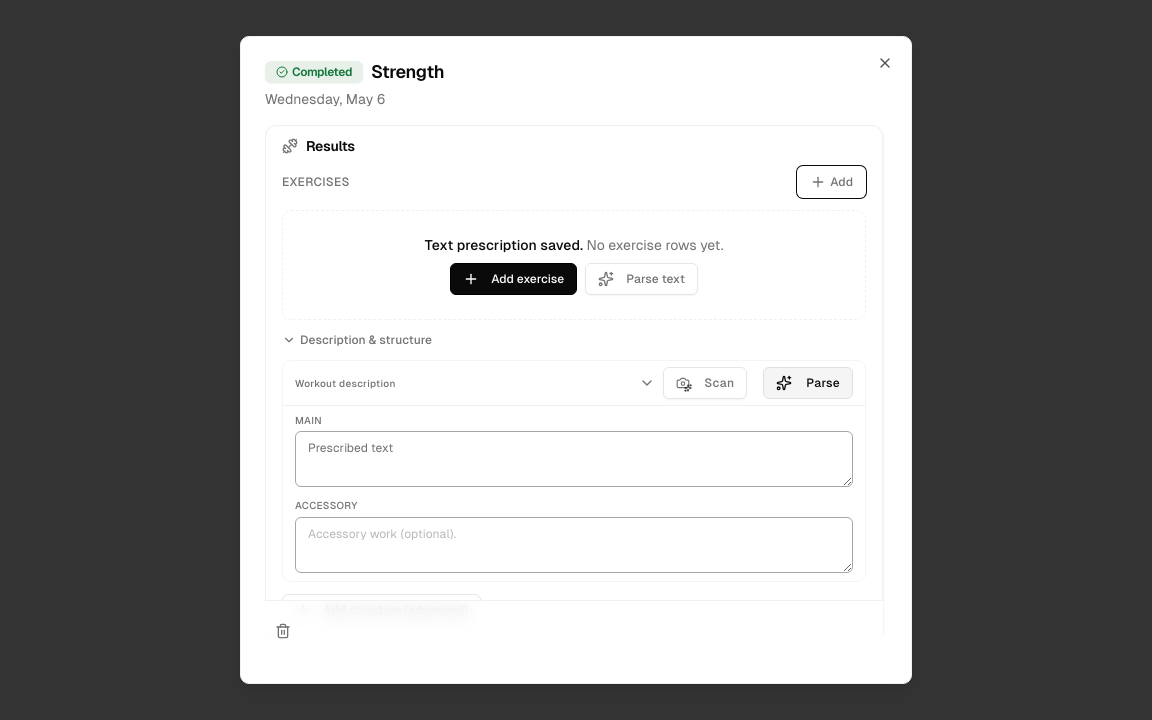
it: ReviewSurface › describes deleting a workout logged without a plan (CL23)
Click the button with test id "review-delete-entry-1" at (283, 631), box [265,613,301,649]
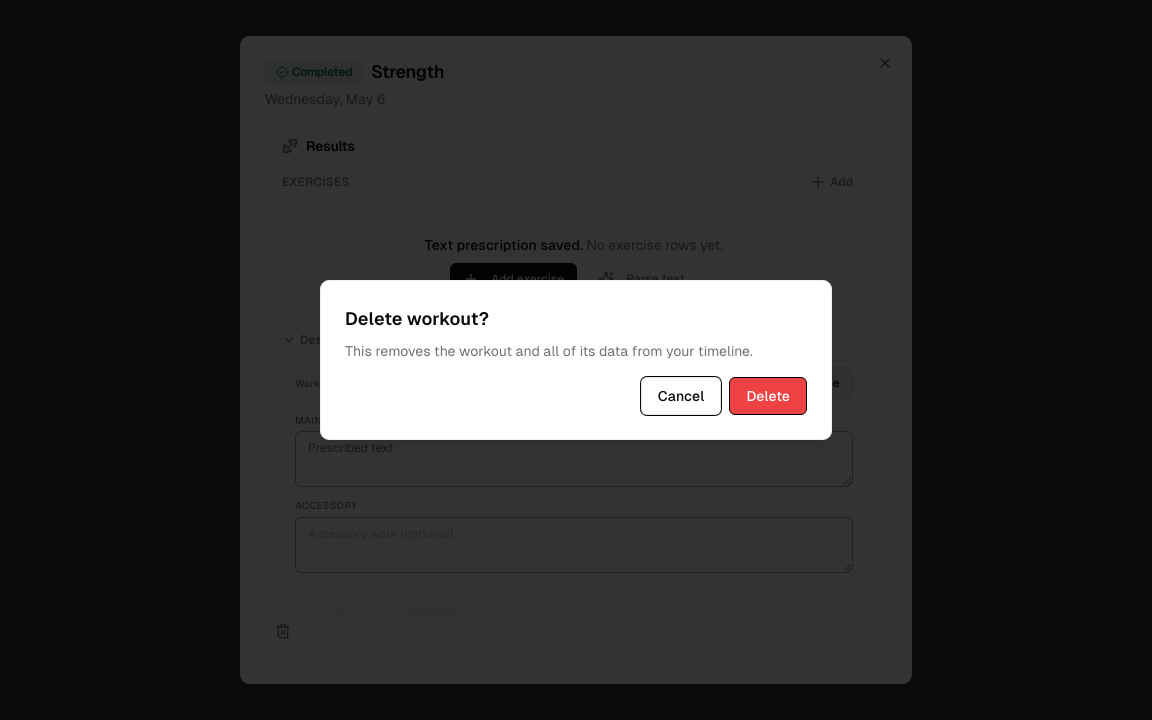
Expected: the dialog that starts with "Delete workout?" does not show "plan", [320,280,832,440]
Now the dialog that starts with "Delete workout?" shows "This removes the workout and all of its data from your timeline.", box [345,343,753,359]
